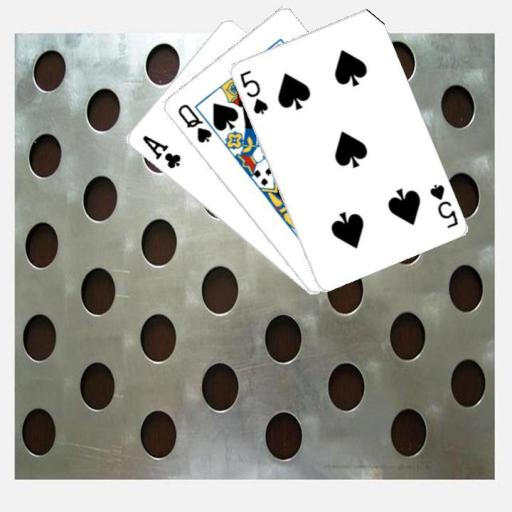5S: (236, 67, 270, 116), (426, 181, 459, 230)
AC: (139, 132, 182, 171)
QS: (175, 101, 214, 145)
